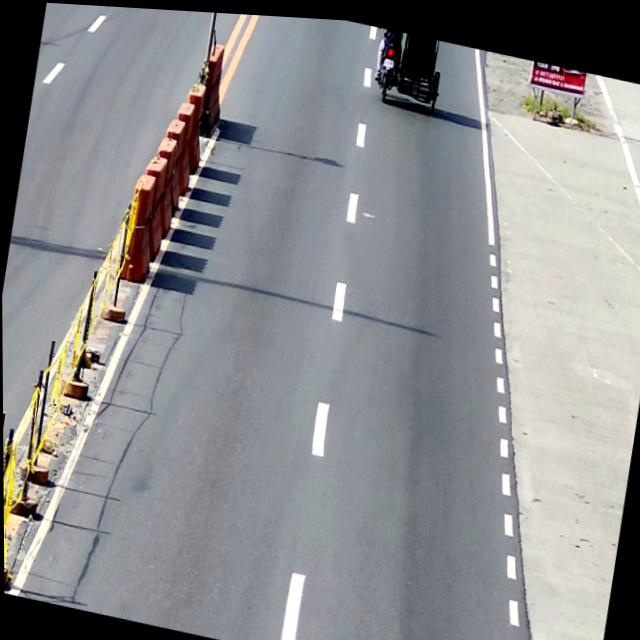License-Plate: (383, 54, 395, 65)
Tricycle: (371, 23, 448, 112)
